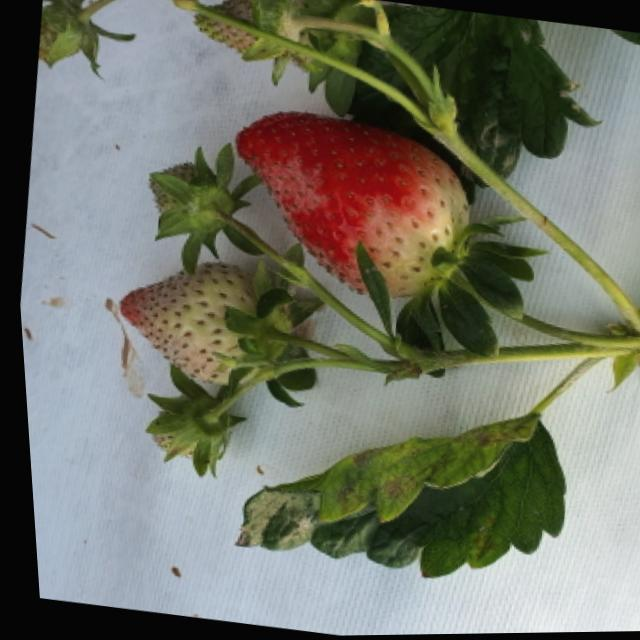Powdery Mildew Fruit: (237, 155, 344, 282)
